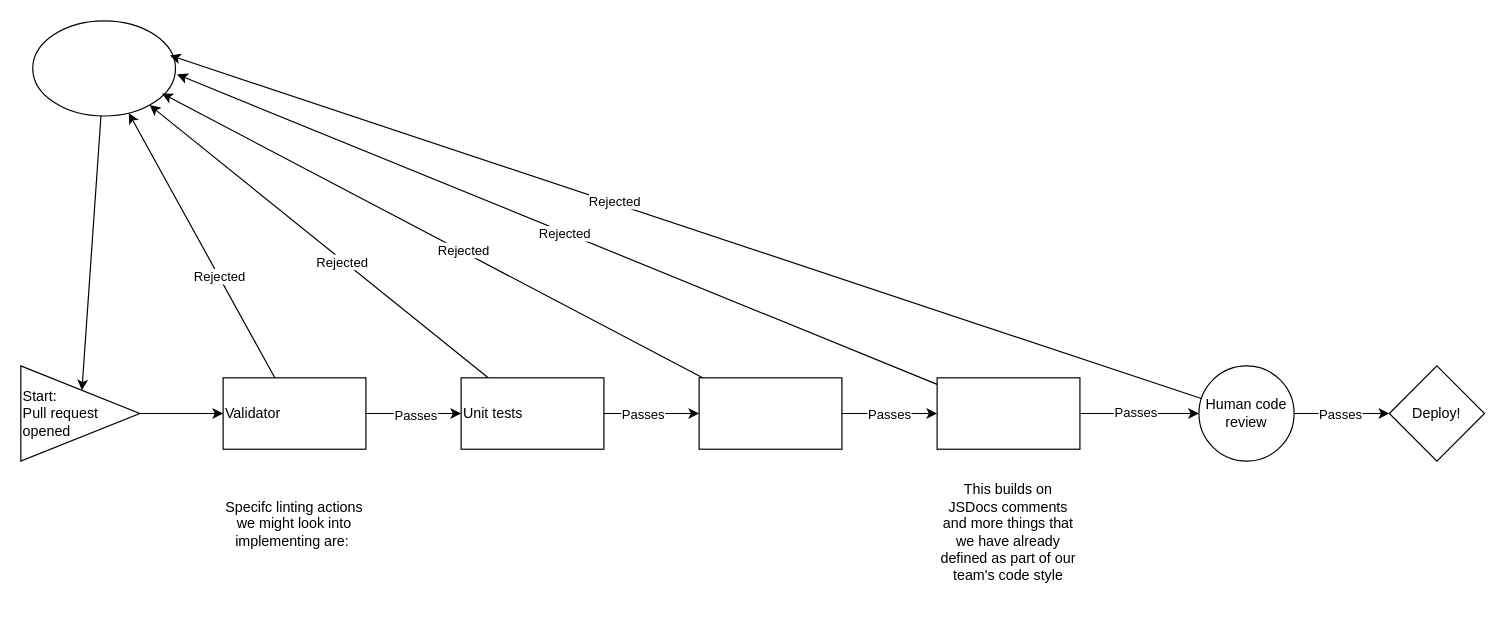
This 1505x625 diagram has some shape labels left out. The box of each missing label's shape, as (x1, y1, x2, y2) in pixels:
Automatic documentation generation: (936, 377, 1080, 449)
Code style & quality: (698, 377, 842, 449)
Make updates/fixes: (32, 20, 176, 116)
